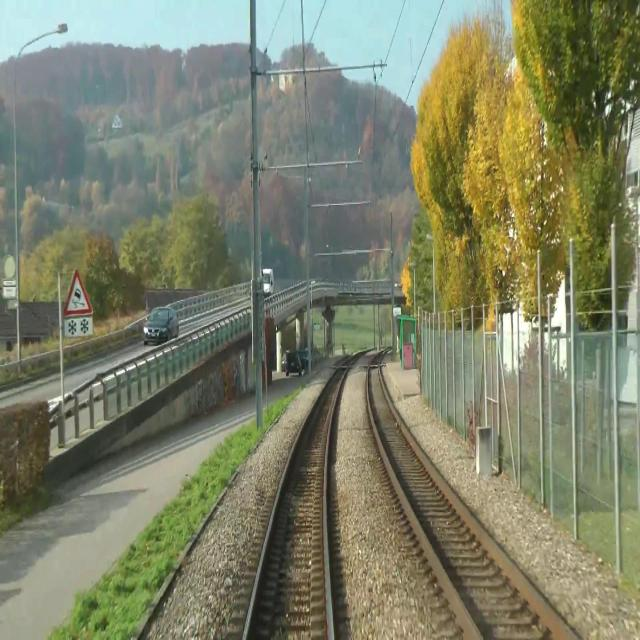rail-track: (369, 356, 573, 639), (246, 365, 346, 639)
